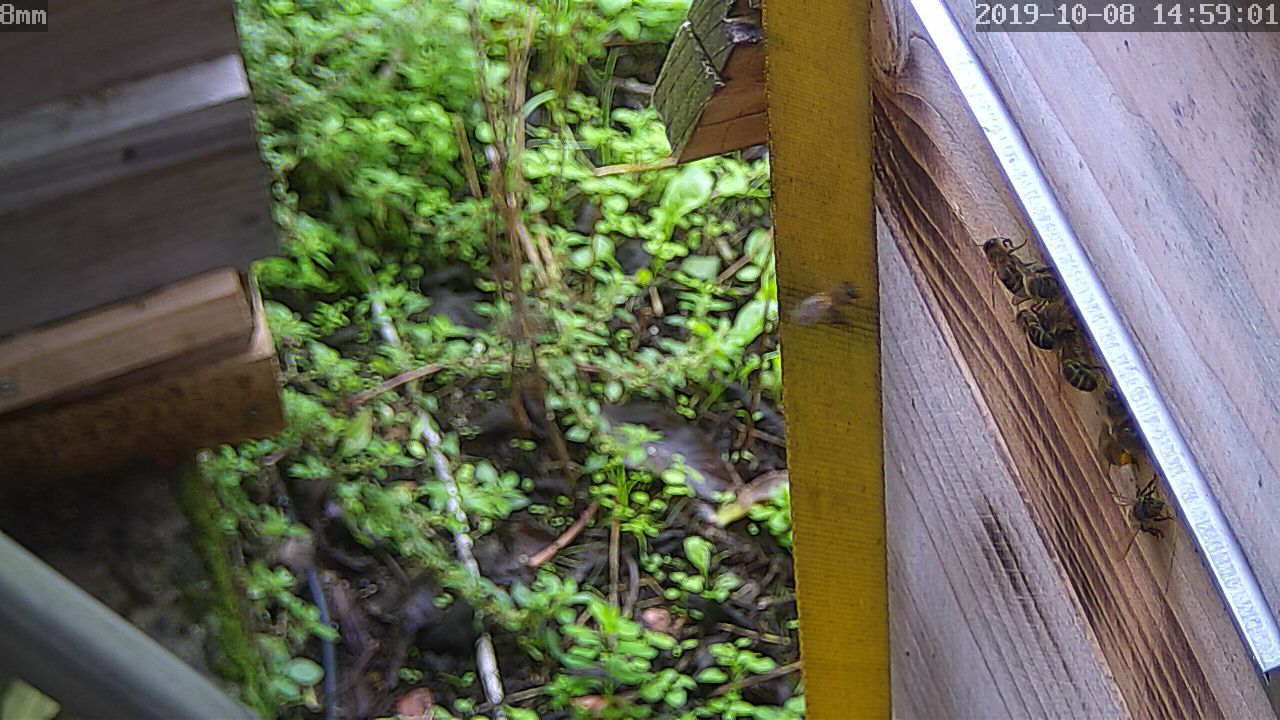bee: (1006, 292, 1109, 389), (981, 232, 1060, 311), (1076, 386, 1144, 469), (1115, 477, 1175, 536)
